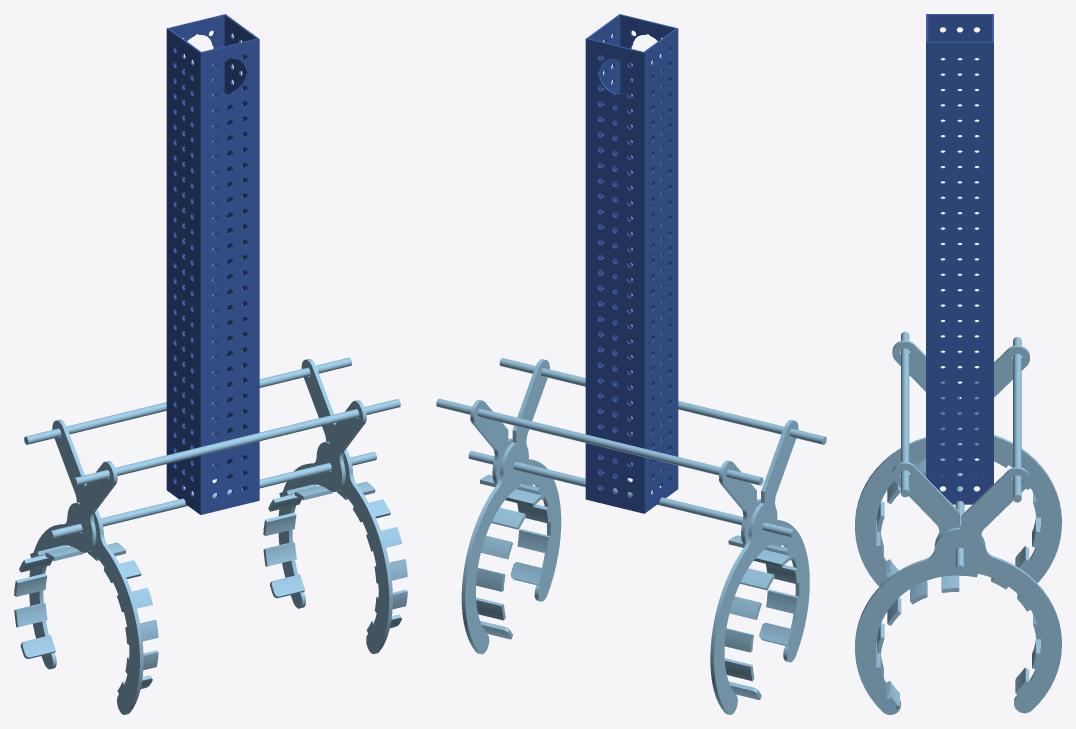
3 renders of one model, left to right at view 1: azimuth 30°, elevation 25°; view 2: azimuth 150°, elevation 25°; view 3: azimuth 270°, elevation 25°, orthographic.
Visible parts, largest first — view 1: Tube 2"x2"x15", Part 1 (×7); view 2: Tube 2"x2"x15", Part 1 (×7); view 3: Tube 2"x2"x15", Part 1 (×7).
Boxes of the visible parts, x1,y1,x2,y2 form: Tube 2"x2"x15": (166,14,259,514); Part 1 (×7): (14,357,407,714); Tube 2"x2"x15": (585,14,678,513); Part 1 (×7): (436,358,826,714); Tube 2"x2"x15": (926,14,993,504); Part 1 (×7): (855,331,1061,714).
Size of the model in its own units: 0.2857 by 0.5166 by 0.1547.
